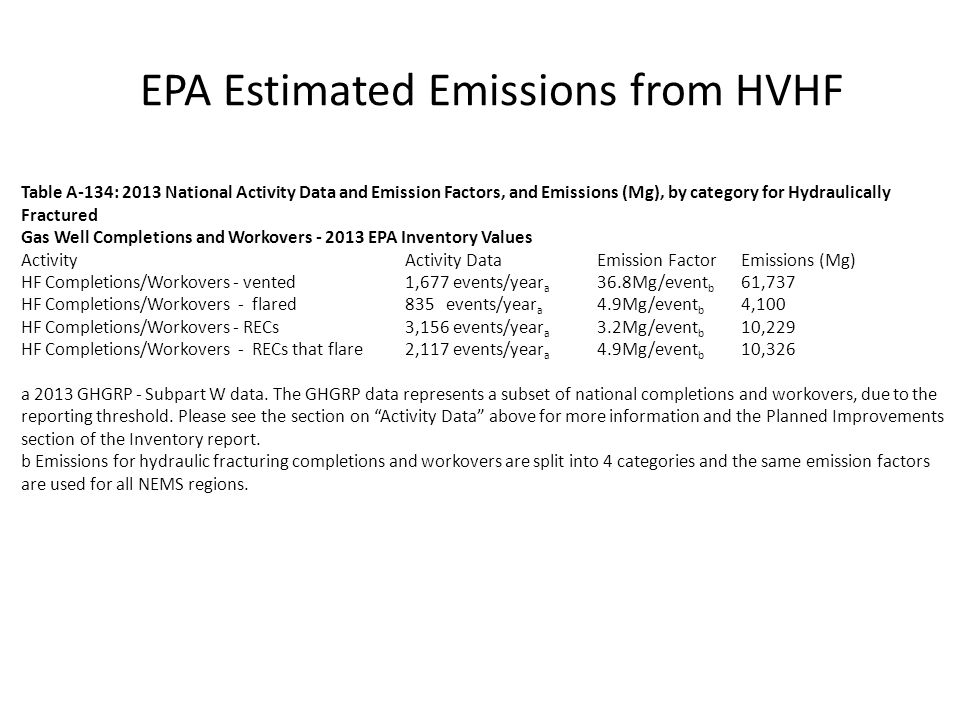fracking table: (16, 179, 899, 374)
